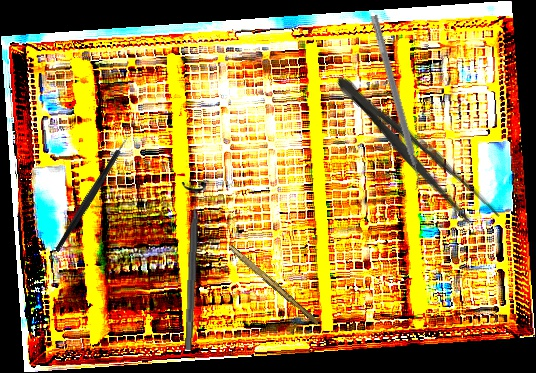Chopper: (22, 125, 161, 253)
Dressing Forceps: (325, 66, 505, 236)
Fixation Ring: (175, 181, 207, 351)
Scalpel Handle: (226, 244, 321, 326)
Spatula Surgical: (362, 14, 427, 192)
